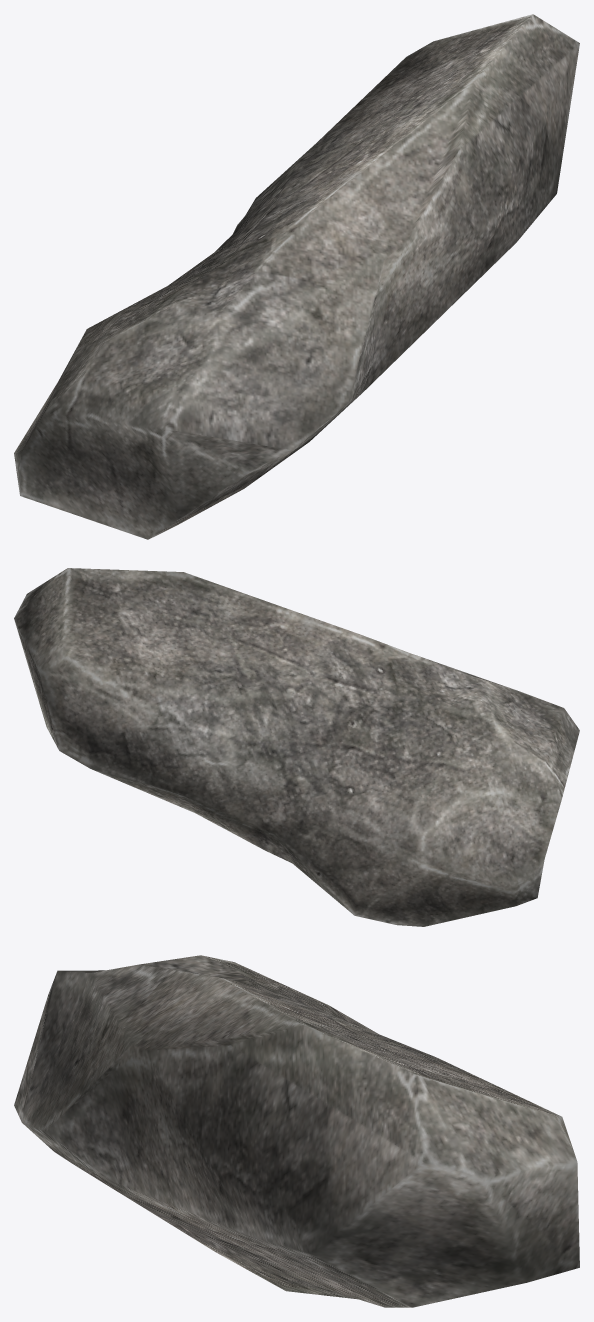
The model's file is Rock2.glb.
3 views of the same model, one above another, from view 1: azimuth 30°, elevation 25°; view 2: azimuth 150°, elevation 25°; view 3: azimuth 270°, elevation 25° (orthographic). The views are drawn at different scales.
Visible parts, largest first — view 1: Rock2; view 2: Rock2; view 3: Rock2.
Boxes of the visible parts, x1,y1,x2,y2 form: Rock2: (14,14,579,539); Rock2: (14,568,579,926); Rock2: (14,955,579,1307).
Bounding box in the file's own units: 0.452 × 0.2602 × 0.2811.
1 material, 1 textured.
